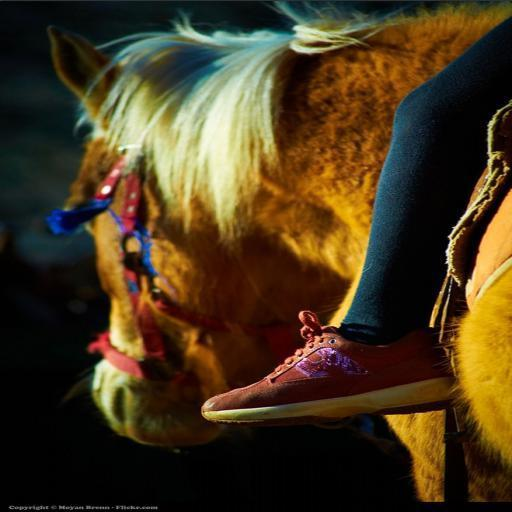horse: (46, 0, 512, 502)
